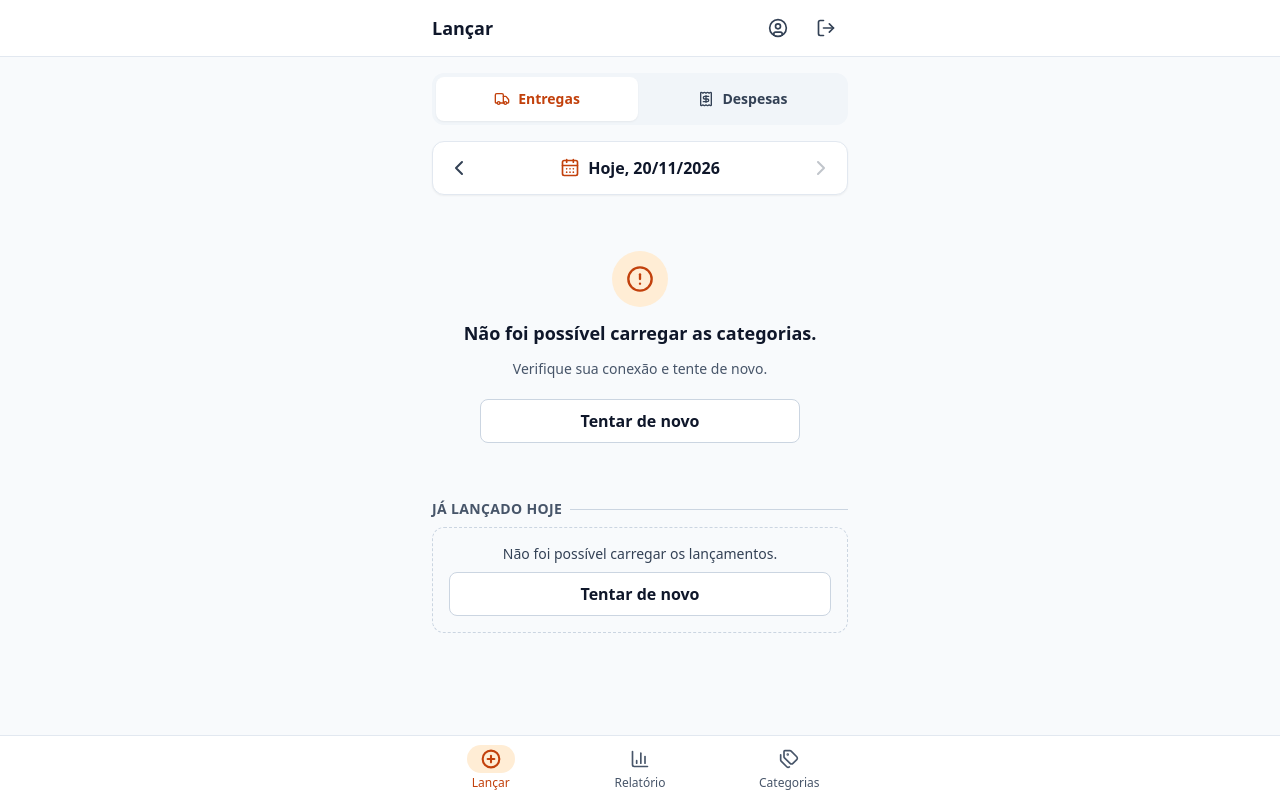
Test: ProtectedRoute / AdminRoute / Sair › botão Sair encerra a sessão, limpa o cache e volta para /login
Click the button named "Sair" at (826, 28), box 804,6 -> 848,50
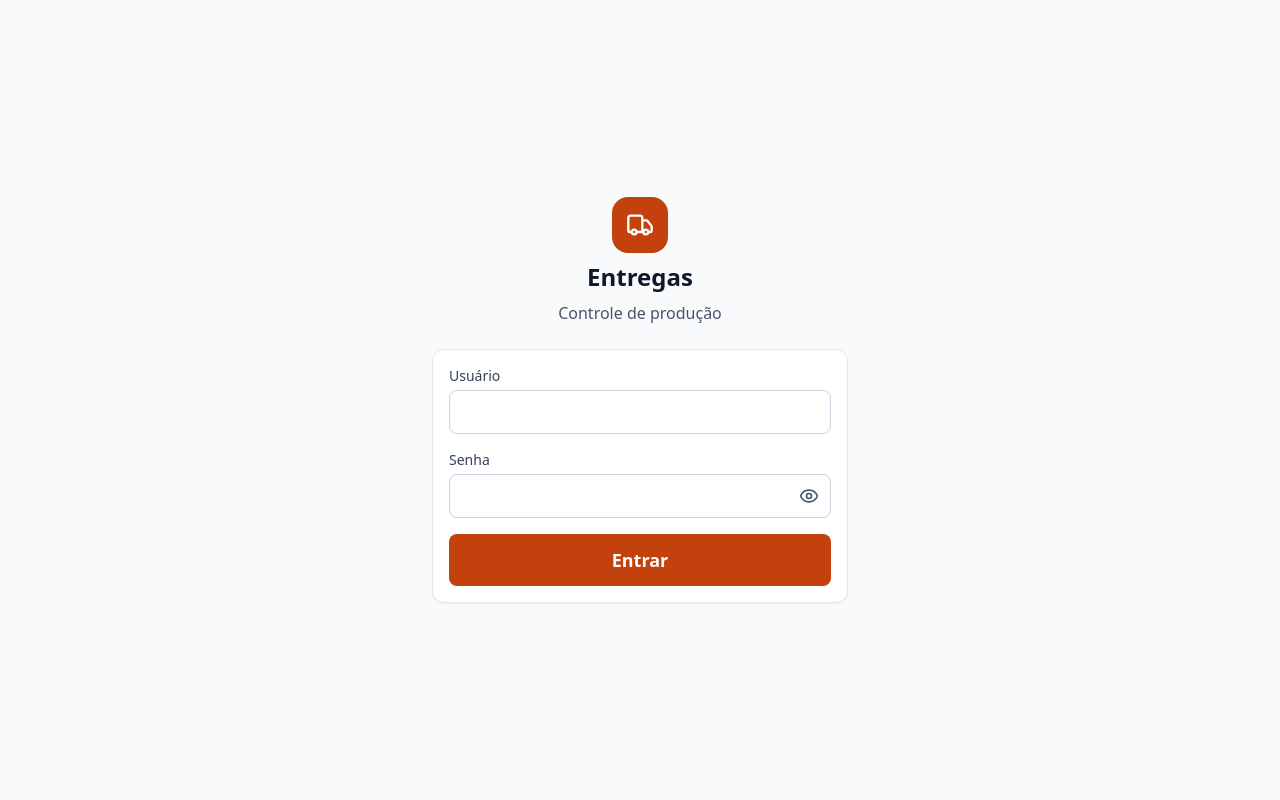
Expected: the field labelled "Usuário" is shown, 449,390 -> 831,434
